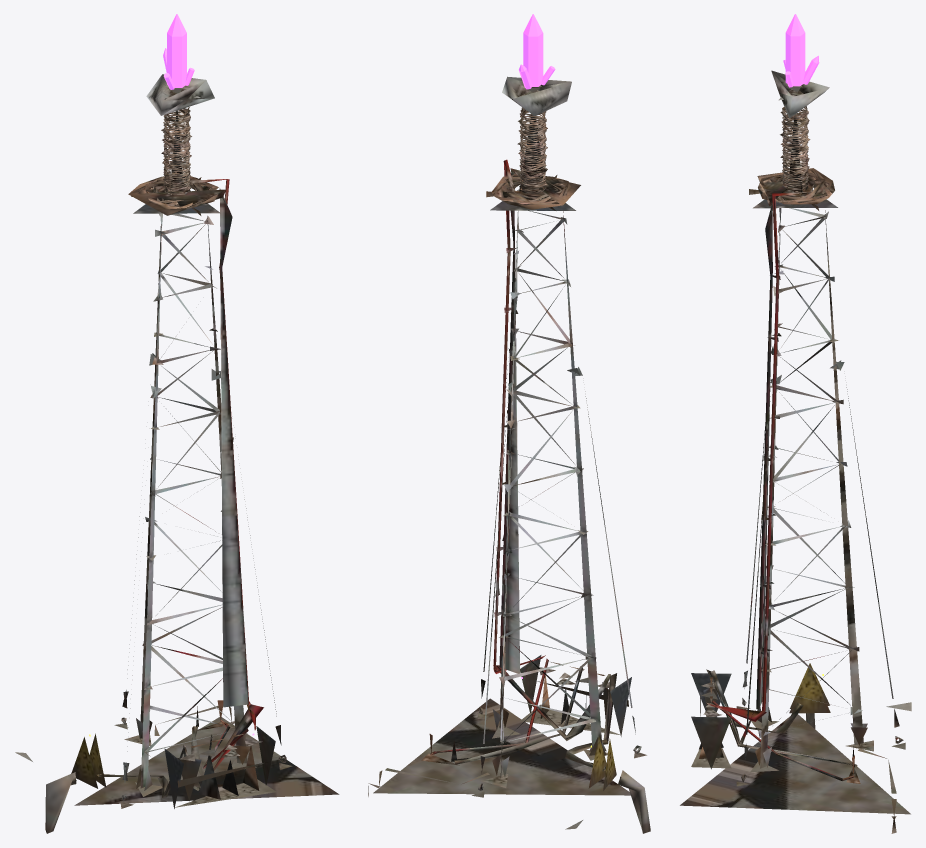
File: torre_sem_fio.glb
3 views of the same model, side by side, from view 1: azimuth 30°, elevation 25°; view 2: azimuth 150°, elevation 25°; view 3: azimuth 270°, elevation 25° (orthographic). The views are drawn at different scales.
Visible parts, largest first — view 1: torre_sem_fio_corpo, torre_sem_fio_cristal; view 2: torre_sem_fio_corpo, torre_sem_fio_cristal; view 3: torre_sem_fio_corpo, torre_sem_fio_cristal.
Boxes of the visible parts, left/top/right/bottom form: torre_sem_fio_corpo: left=15, top=74, right=339, bottom=833; torre_sem_fio_cristal: left=163, top=14, right=194, bottom=89; torre_sem_fio_corpo: left=368, top=76, right=650, bottom=833; torre_sem_fio_cristal: left=519, top=14, right=555, bottom=89; torre_sem_fio_corpo: left=680, top=70, right=911, bottom=833; torre_sem_fio_cristal: left=783, top=14, right=819, bottom=87.
Bounding box in the file's own units: 0.9393 × 2.94 × 0.8.
4 materials, 1 textured.
